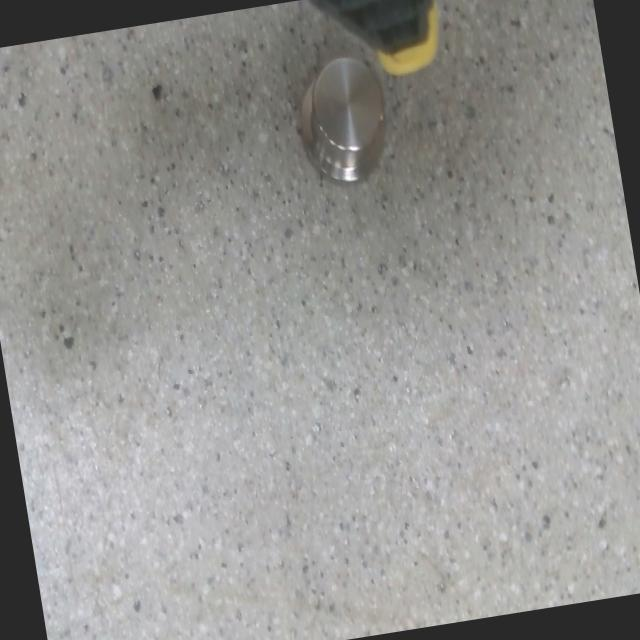sensor: (287, 50, 398, 193)
